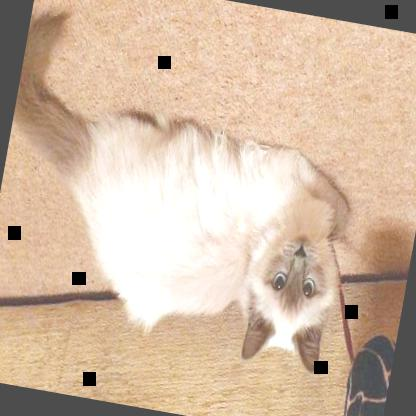cat: (0, 3, 378, 378)
